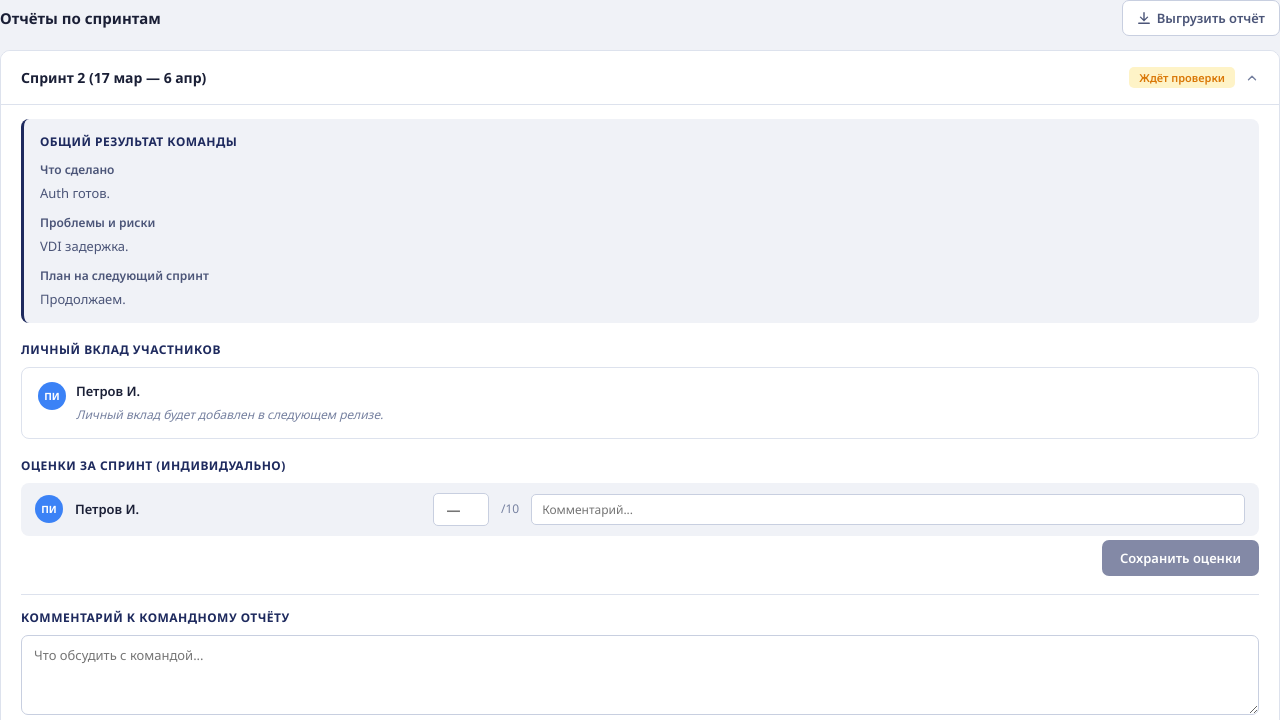
Test: MentorTeamReportsTab › кнопка «Выгрузить отчёт» открывает модалку, «Скачать» дёргает экспорт и скачивает blob
Click the button "Выгрузить отчёт".
click(1201, 18)  # box [1122,0,1279,36]
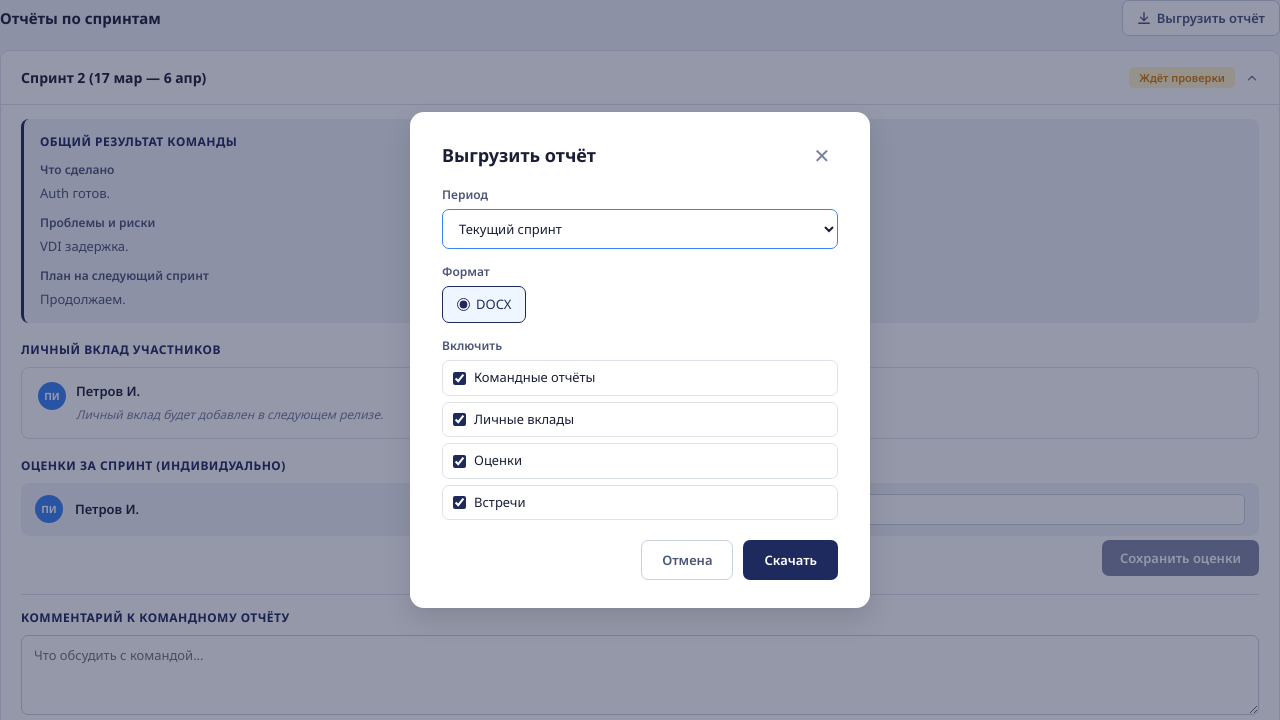
Result: the dialog "Выгрузить отчёт" is shown
Click the button "Скачать".
click(791, 560)  # box [744,540,838,580]
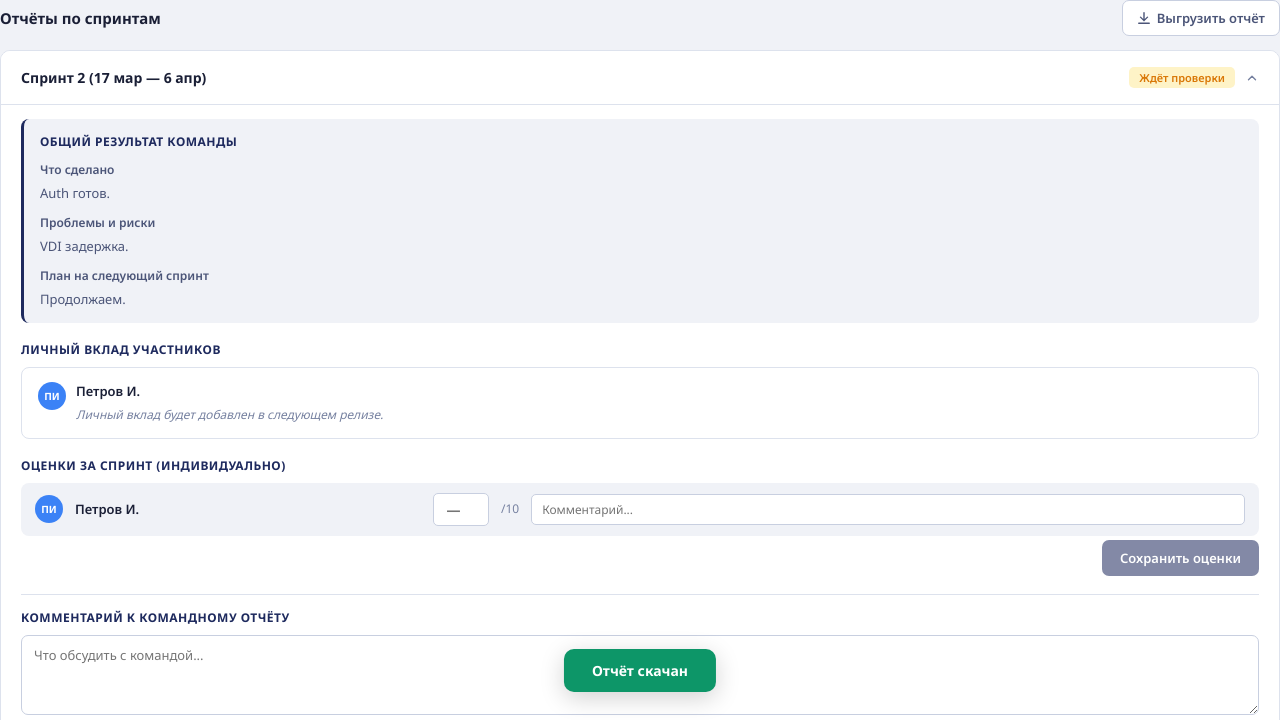
Result: the text "Отчёт скачан" is shown at [564,649,716,692]
